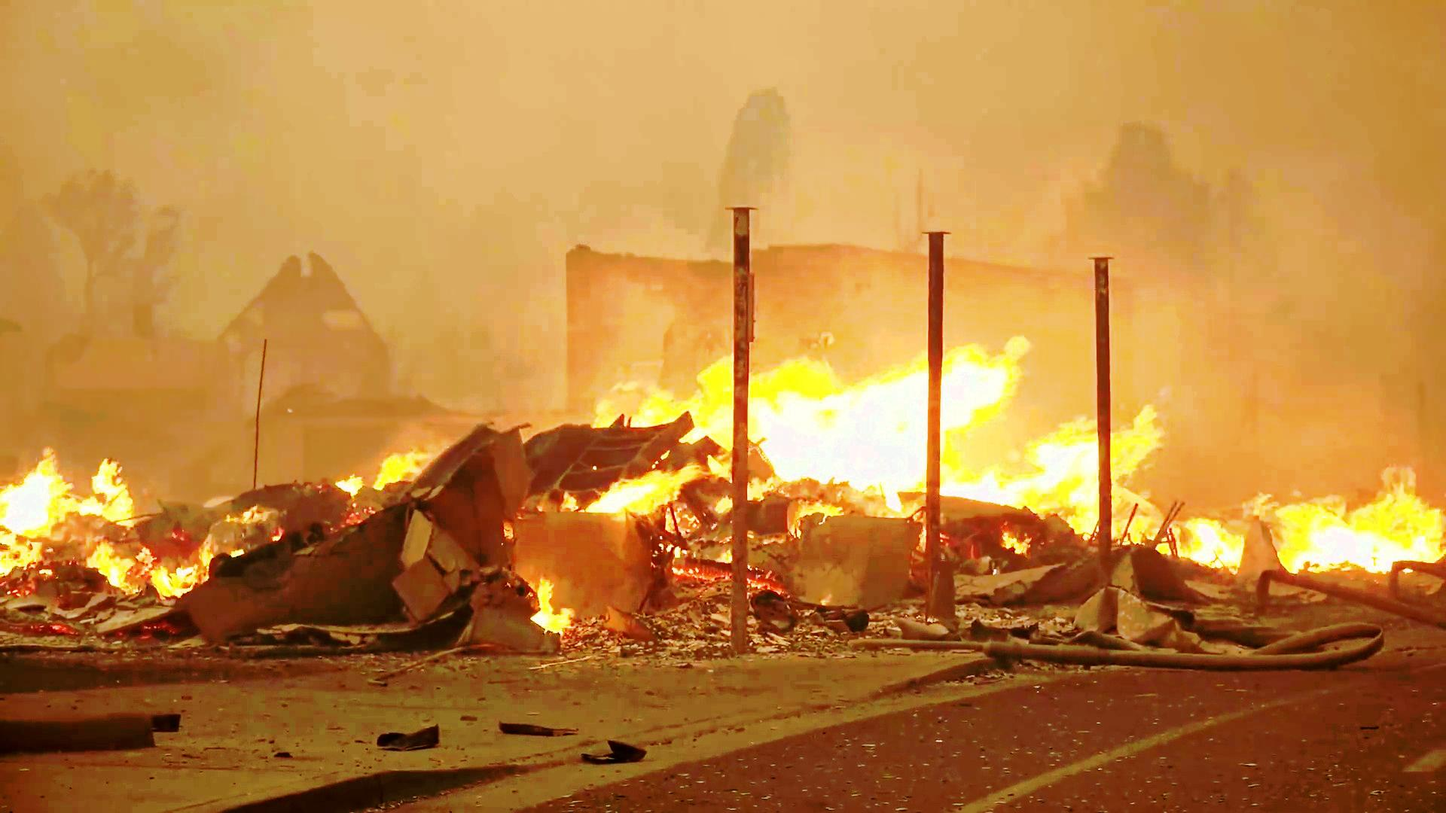fire: (603, 311, 993, 514), (974, 371, 1213, 535), (3, 456, 192, 602), (1223, 461, 1446, 571)
